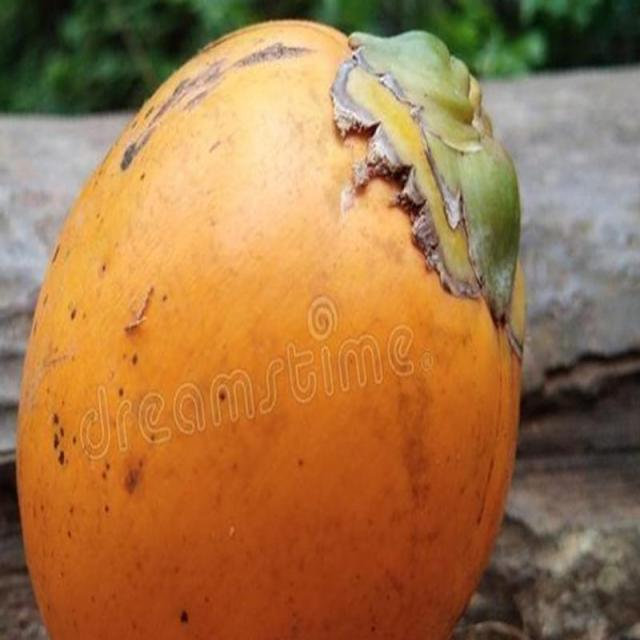good: (14, 19, 527, 639)
